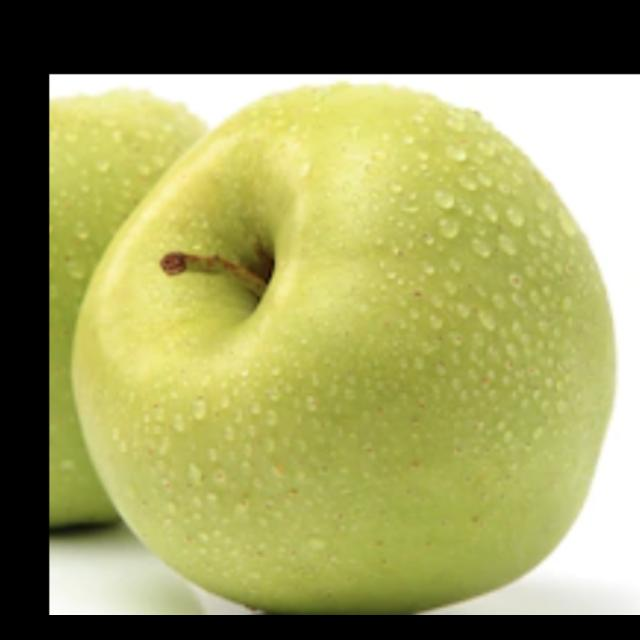Apel Segar: (52, 74, 624, 616)
